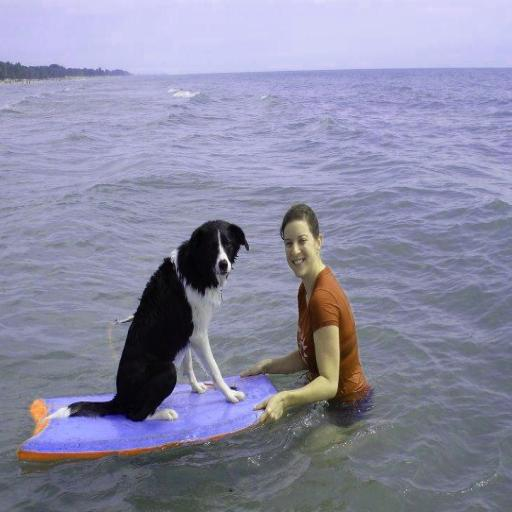dog_face: (186, 212, 253, 278)
